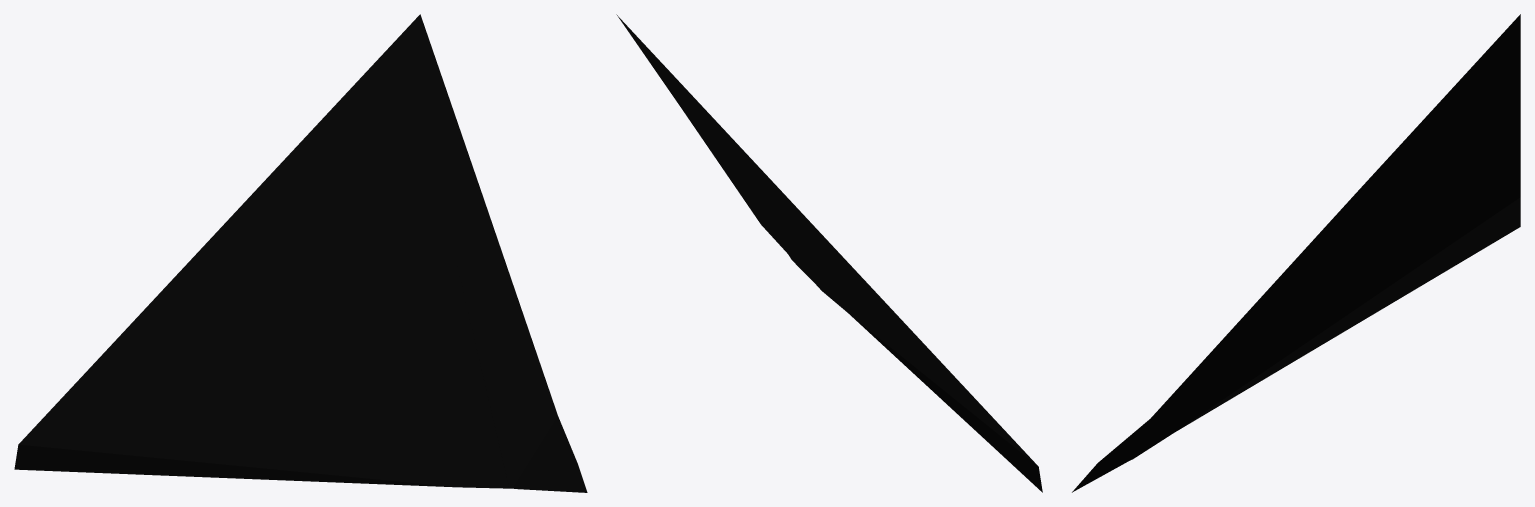
3 renders of one model, left to right at view 1: azimuth 30°, elevation 25°; view 2: azimuth 150°, elevation 25°; view 3: azimuth 270°, elevation 25°, orthographic. The views are drawn at different scales.
Bounding box in the file's own units: 0.7832 × 0.6575 × 0.5589.
Materials: 1 (1 with a texture image).
